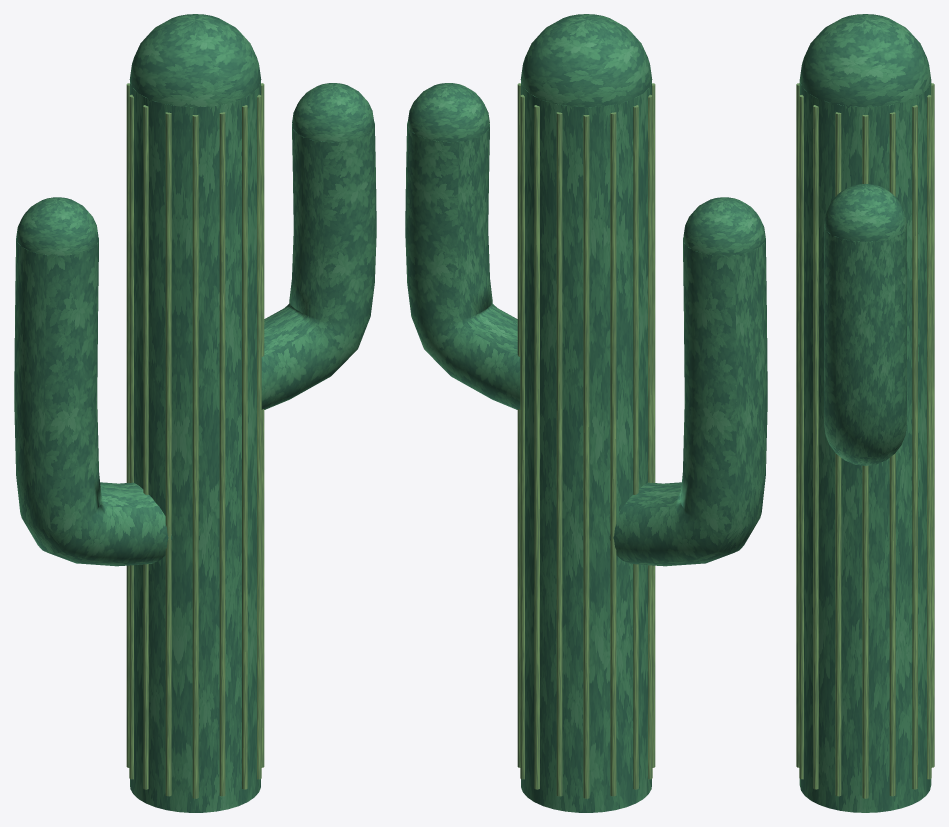
File: tree_1.glb
3 views of the same model, side by side, from view 1: azimuth 30°, elevation 25°; view 2: azimuth 150°, elevation 25°; view 3: azimuth 270°, elevation 25° (orthographic).
Visible parts, largest first — view 1: tree_1; view 2: tree_1; view 3: tree_1.
Boxes of the visible parts, box(x1,y1,x2,y2) form: tree_1: box(14, 14, 376, 812); tree_1: box(405, 14, 767, 812); tree_1: box(796, 14, 934, 812).
Bounding box in the file's own units: 2.35 × 4.88 × 0.7978.
1 material, 1 textured.
